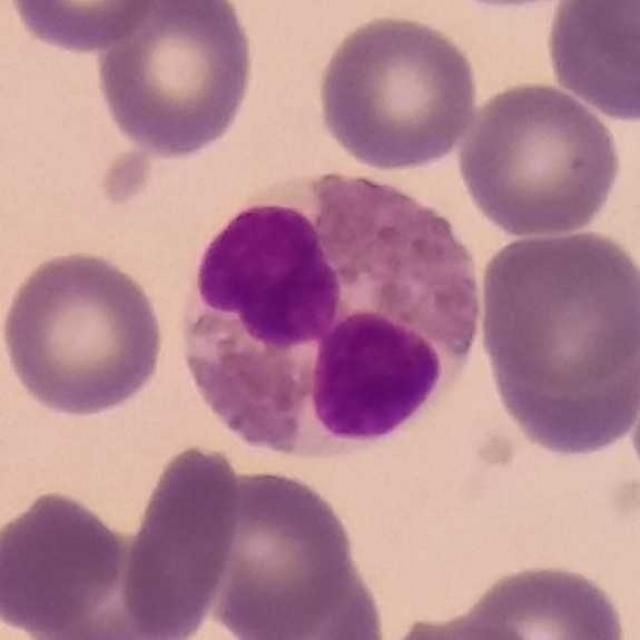Eosinophil: (172, 158, 491, 473)
RBC: (188, 462, 366, 640), (0, 245, 169, 421), (312, 9, 482, 174), (454, 77, 626, 239), (473, 234, 640, 397), (91, 0, 259, 160), (491, 283, 640, 460), (114, 439, 243, 640), (14, 530, 210, 640), (0, 485, 130, 637), (211, 550, 392, 639), (449, 557, 631, 640), (541, 0, 640, 124), (3, 0, 165, 55), (373, 609, 551, 640)
